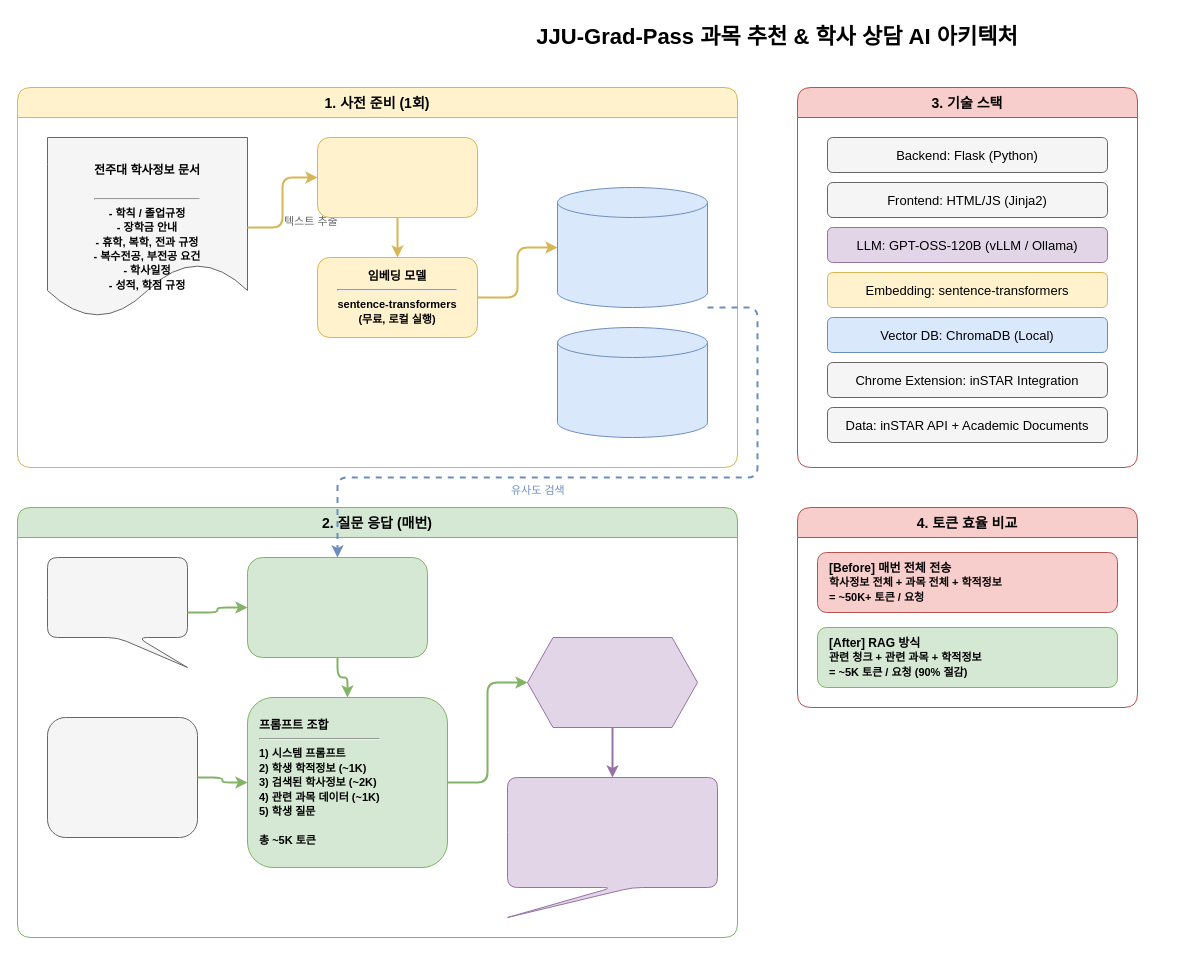
This 1195x955 diagram has some shape labels left out. The centre of each missing label's shape, as x and y in pixels:
GPT-OSS-120B vLLM / Ollama: the point at 612,682
개설과목 DB inSTAR에서 가져온 과목 데이터 저장: the point at 632,382
관련 문서 검색 질문을 임베딩 후 벡터 DB에서 유사 청크 2~3개 검색: the point at 337,607
맞춤 답변 "3학년 2학기이시니 일반휴학 신청 가능합니다. 신청 기간은 3/2~3/15이며 포털에서 신청하시면...": the point at 612,847
벡터 DB (ChromaDB) 학사정보 청크들이 벡터로 저장됨: the point at 632,247
청크 분할 문서를 500~1000자 단위로 분할: the point at 397,177
학생 질문 "휴학하려면 어떻게 해?": the point at 117,612
학생 학적정보 (세션에서 로드) - 학과, 학년 - 졸업요건 현황 - 수강 이력: the point at 122,777
